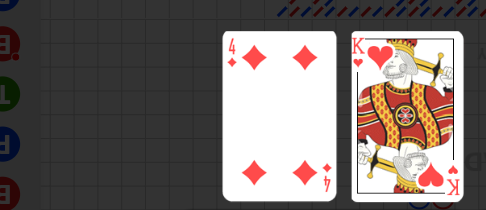4D: (226, 38, 238, 69)
KH: (445, 163, 461, 197)
